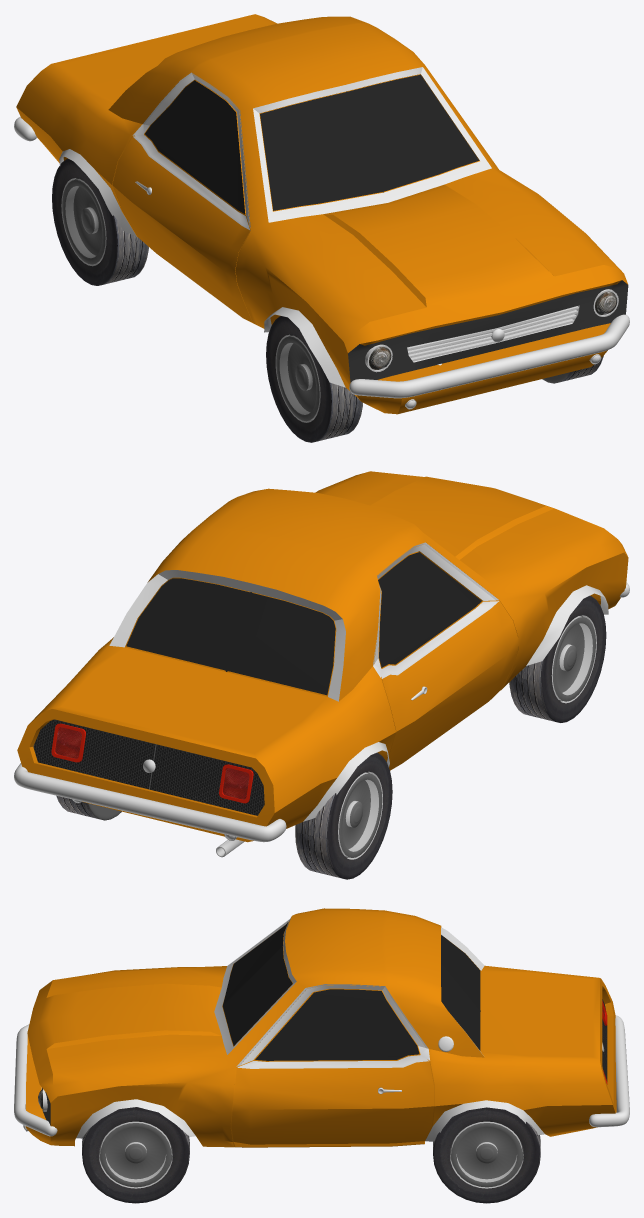
The model's file is car.glb.
3 views of the same model, one above another, from view 1: azimuth 30°, elevation 25°; view 2: azimuth 150°, elevation 25°; view 3: azimuth 270°, elevation 25° (orthographic). The views are drawn at different scales.
Visible parts, largest first — view 1: Plane, Cylinder.004, Cylinder.003, Plane.002, Plane.001, Cylinder; view 2: Plane, Cylinder.004, Cylinder.003, Plane.003, Cylinder.009; view 3: Plane, Cylinder.009, Cylinder.008, Plane.003, Plane.002.
Part boxes in pixels (bbox=[...]): Plane: bbox=[16, 14, 628, 414]; Cylinder.004: bbox=[52, 158, 148, 285]; Cylinder.003: bbox=[266, 316, 362, 442]; Plane.002: bbox=[349, 314, 629, 398]; Plane.001: bbox=[407, 306, 578, 361]; Cylinder: bbox=[365, 289, 618, 372]; Plane: bbox=[17, 471, 628, 842]; Cylinder.004: bbox=[295, 752, 392, 879]; Cylinder.003: bbox=[509, 595, 606, 722]; Plane.003: bbox=[14, 763, 286, 842]; Cylinder.009: bbox=[56, 795, 121, 820]; Plane: bbox=[25, 908, 616, 1147]; Cylinder.009: bbox=[433, 1107, 540, 1203]; Cylinder.008: bbox=[82, 1107, 189, 1203]; Plane.003: bbox=[589, 1015, 629, 1127]; Plane.002: bbox=[14, 1024, 57, 1136].
Size of the model in its own units: 1.3 by 1.09 by 2.86.
Materials: 15 (5 with a texture image).
